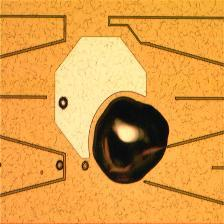PARTICLE: (1, 95, 172, 187)
